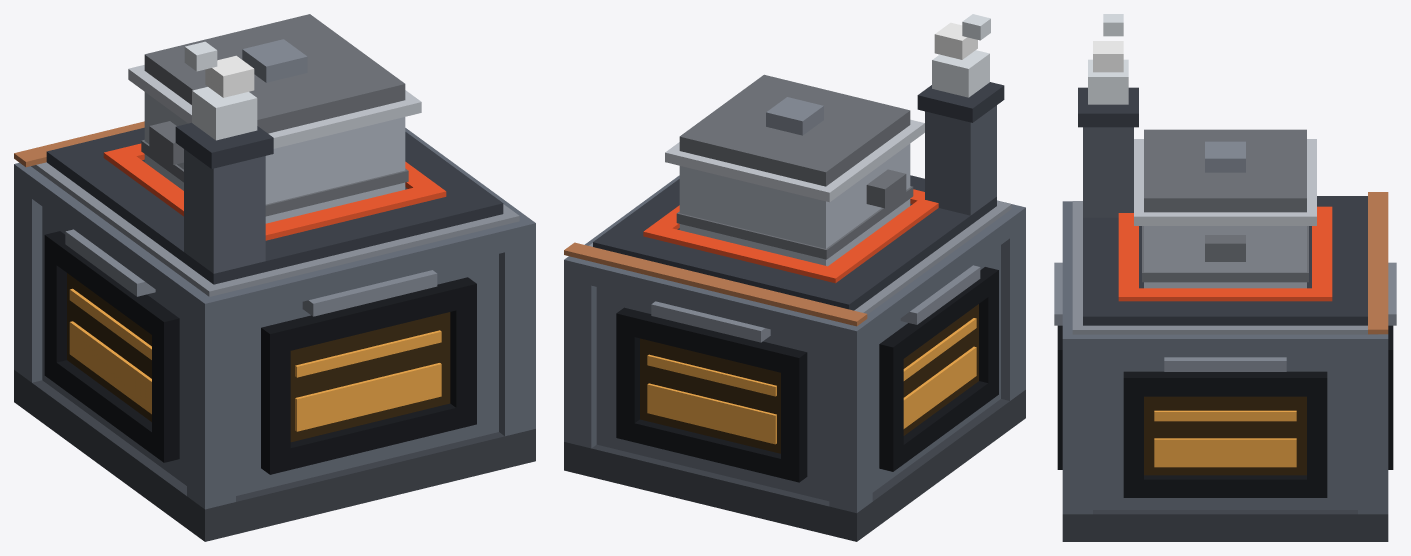
File: kitchen.glb
3 renders of one model, left to right at view 1: azimuth 30°, elevation 25°; view 2: azimuth 150°, elevation 25°; view 3: azimuth 270°, elevation 25°, orthographic. The views are drawn at different scales.
Parts seen in each view (by area): view 1: body.046, lid, steam, tier.021; view 2: body.046, lid, tier.021, steam; view 3: body.046, lid, tier.021, steam.
Part boxes in pixels (x1=…): body.046: x1=14, y1=65, x2=535, y2=541; lid: x1=144, y1=14, x2=405, y2=133; steam: x1=184, y1=41, x2=257, y2=140; tier.021: x1=14, y1=121, x2=144, y2=167; body.046: x1=564, y1=82, x2=1025, y2=541; lid: x1=679, y1=74, x2=910, y2=186; tier.021: x1=564, y1=242, x2=867, y2=326; steam: x1=932, y1=14, x2=990, y2=97; body.046: x1=1054, y1=87, x2=1396, y2=541; lid: x1=1144, y1=129, x2=1306, y2=212; tier.021: x1=1368, y1=192, x2=1388, y2=334; steam: x1=1088, y1=14, x2=1128, y2=104.
Size of the model in its own units: 1.05 by 1.34 by 1.05.
